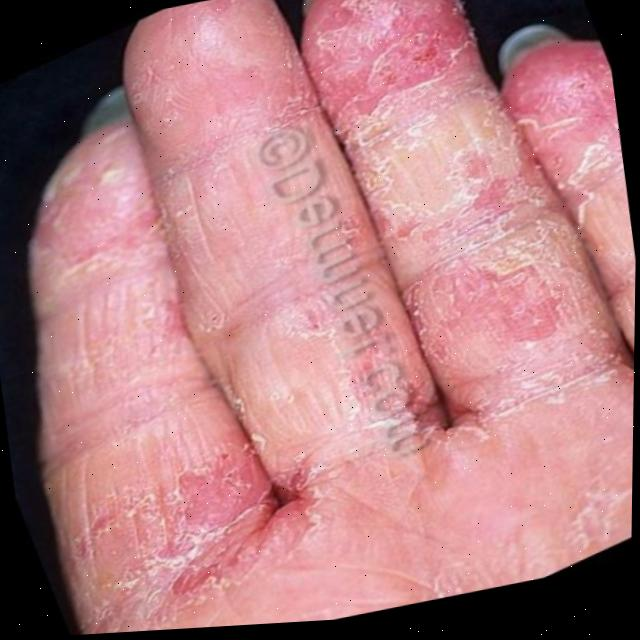Eczema: (18, 0, 640, 638)
